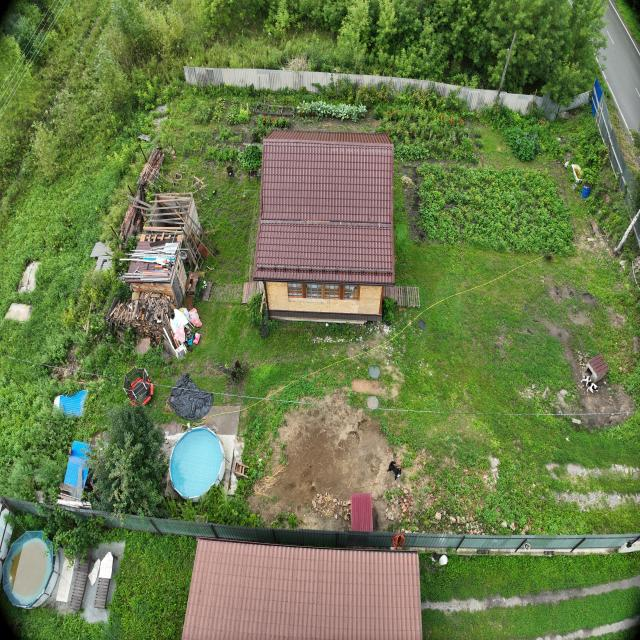fence: (180, 63, 596, 117), (55, 522, 637, 550), (592, 76, 638, 214)
foundation: (64, 76, 640, 543)
roof_finished: (257, 130, 396, 283)
walls: (262, 276, 383, 321)
windows: (287, 283, 359, 301)
